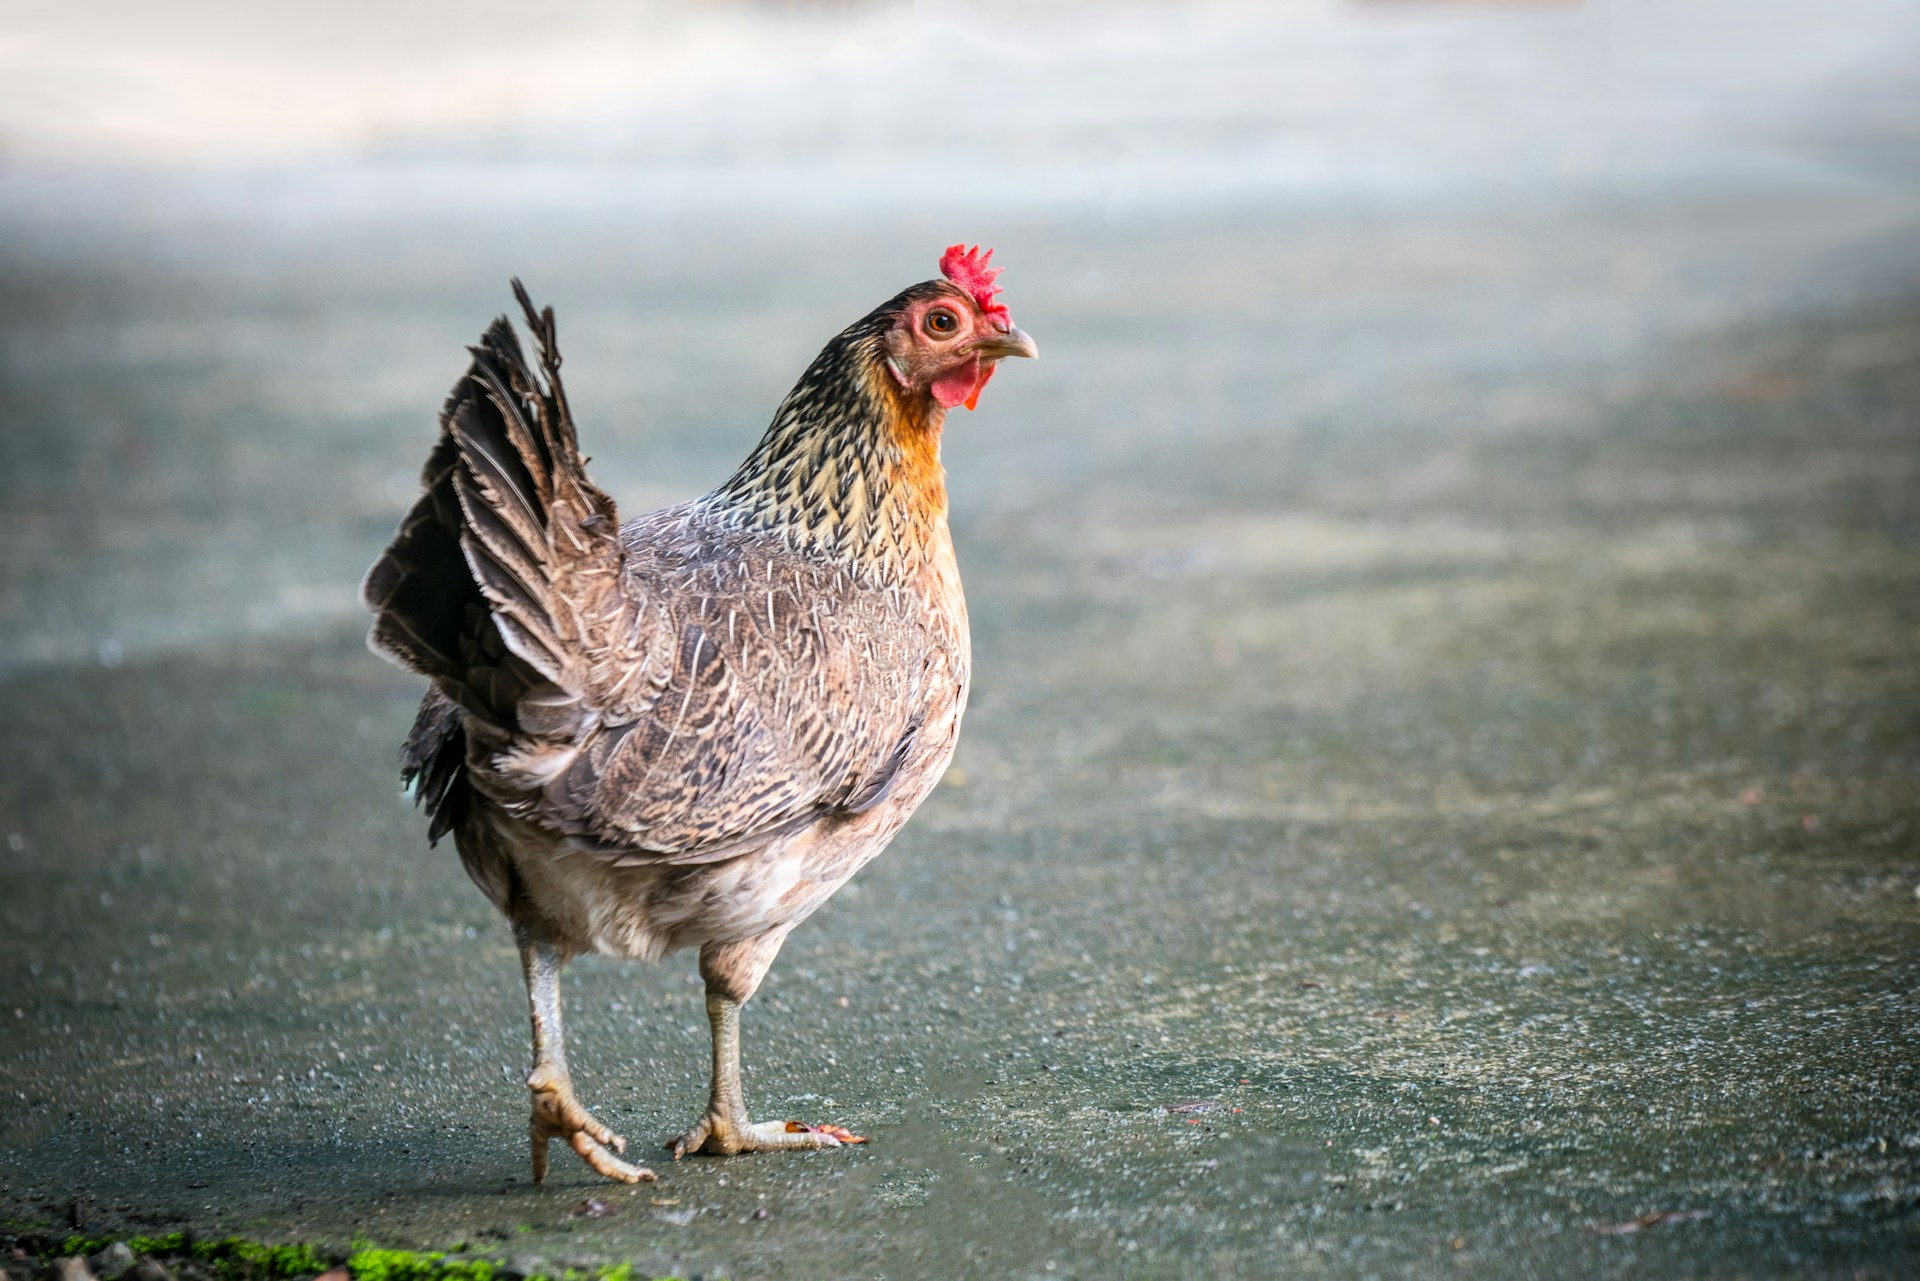hen: (357, 227, 1064, 1212)
